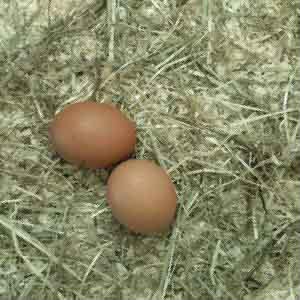egg: (50, 101, 137, 170), (108, 159, 178, 235)
